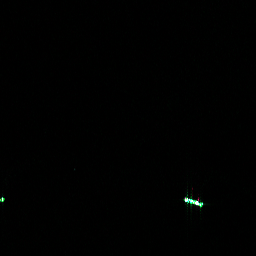ship: (181, 193, 206, 210), (1, 196, 6, 204)
